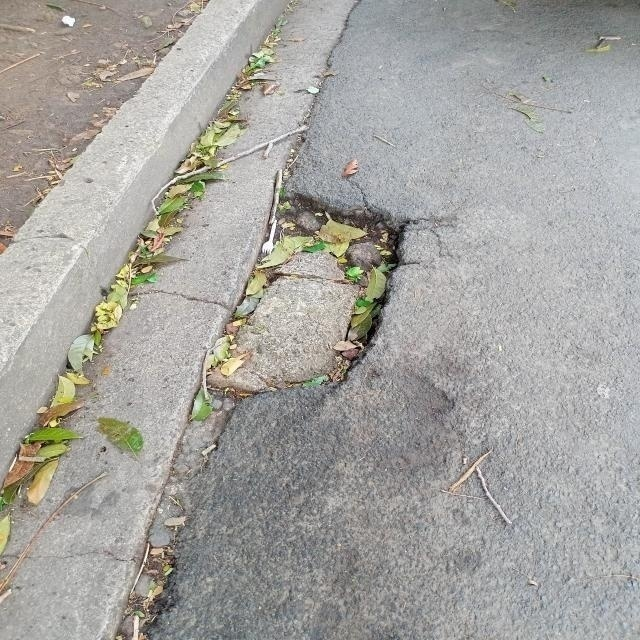pothole: (130, 170, 437, 454)
